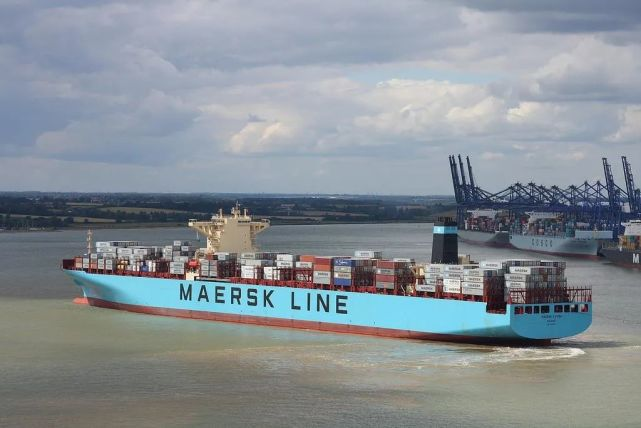Cargoship: (62, 201, 601, 353)
